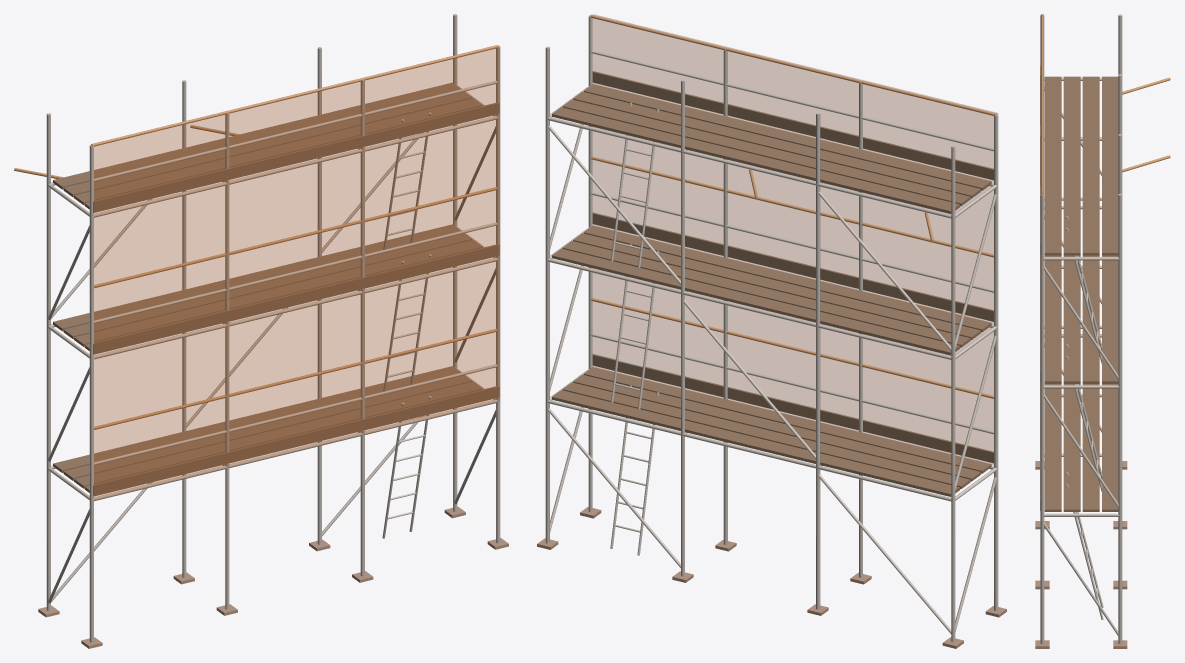
File: P15_scaffold_6x6.glb
The picture shows the model from 3 angles, left to right: view 1: azimuth 30°, elevation 25°; view 2: azimuth 150°, elevation 25°; view 3: azimuth 270°, elevation 25°; orthographic projection. The views are drawn at different scales.
Visible parts, largest first — view 1: safety_netting, plank (×9), standard (×8), toe_board (×3), guard_rail (×6), ledger (×3); view 2: safety_netting, plank (×12), standard (×8), toe_board (×3), guard_rail (×6), ledger (×3), diagonal_brace (×5); view 3: plank (×12), standard (×5), ladder_rail (×6), end_brace (×3), transom (×3), guard_rail.
Boxes of the visible parts, left/top/right/bottom form: safety_netting: left=94, top=47, right=499, bottom=499; plank (×9): left=53, top=82, right=482, bottom=488; standard (×8): left=46, top=14, right=500, bottom=642; toe_board (×3): left=93, top=102, right=499, bottom=496; guard_rail (×6): left=91, top=45, right=498, bottom=465; ledger (×3): left=93, top=116, right=498, bottom=501; safety_netting: left=593, top=14, right=997, bottom=464; plank (×12): left=552, top=84, right=991, bottom=496; standard (×8): left=545, top=15, right=998, bottom=642; toe_board (×3): left=592, top=71, right=993, bottom=463; guard_rail (×6): left=590, top=14, right=996, bottom=434; ledger (×3): left=547, top=117, right=951, bottom=501; diagonal_brace (×5): left=548, top=125, right=951, bottom=633; plank (×12): left=1044, top=76, right=1118, bottom=511; standard (×5): left=1040, top=14, right=1122, bottom=644; ladder_rail (×6): left=1066, top=216, right=1103, bottom=619; end_brace (×3): left=1044, top=266, right=1118, bottom=636; transom (×3): left=1043, top=257, right=1119, bottom=516; guard_rail: left=1041, top=14, right=1043, bottom=194.
Size of the model in its own units: 6.22 by 7.06 by 1.91.
